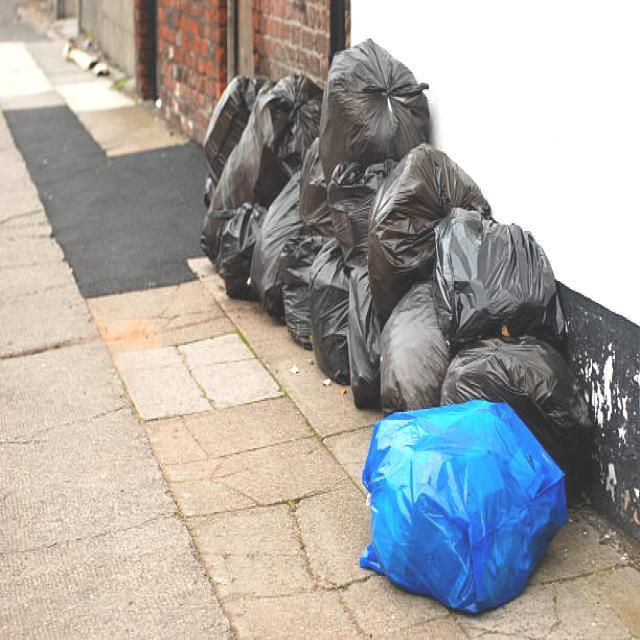high trash: (201, 41, 591, 612)
